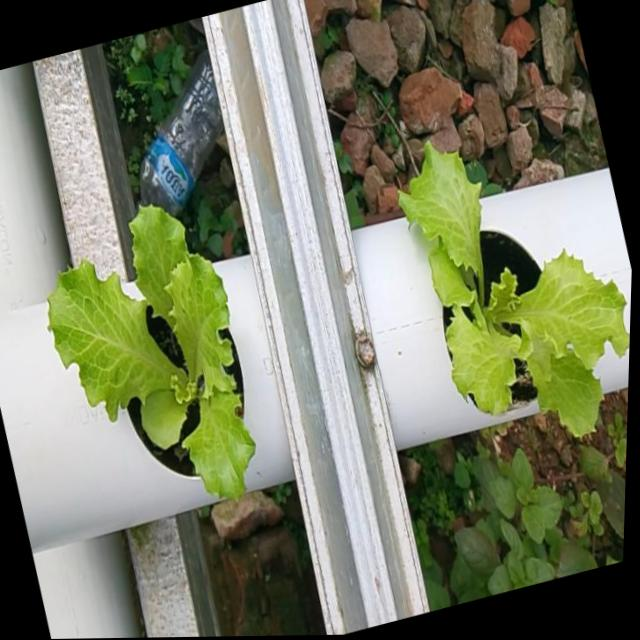Baby: (392, 145, 621, 437), (43, 206, 250, 500)
